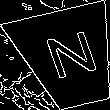N_S: (37, 29, 101, 88)
